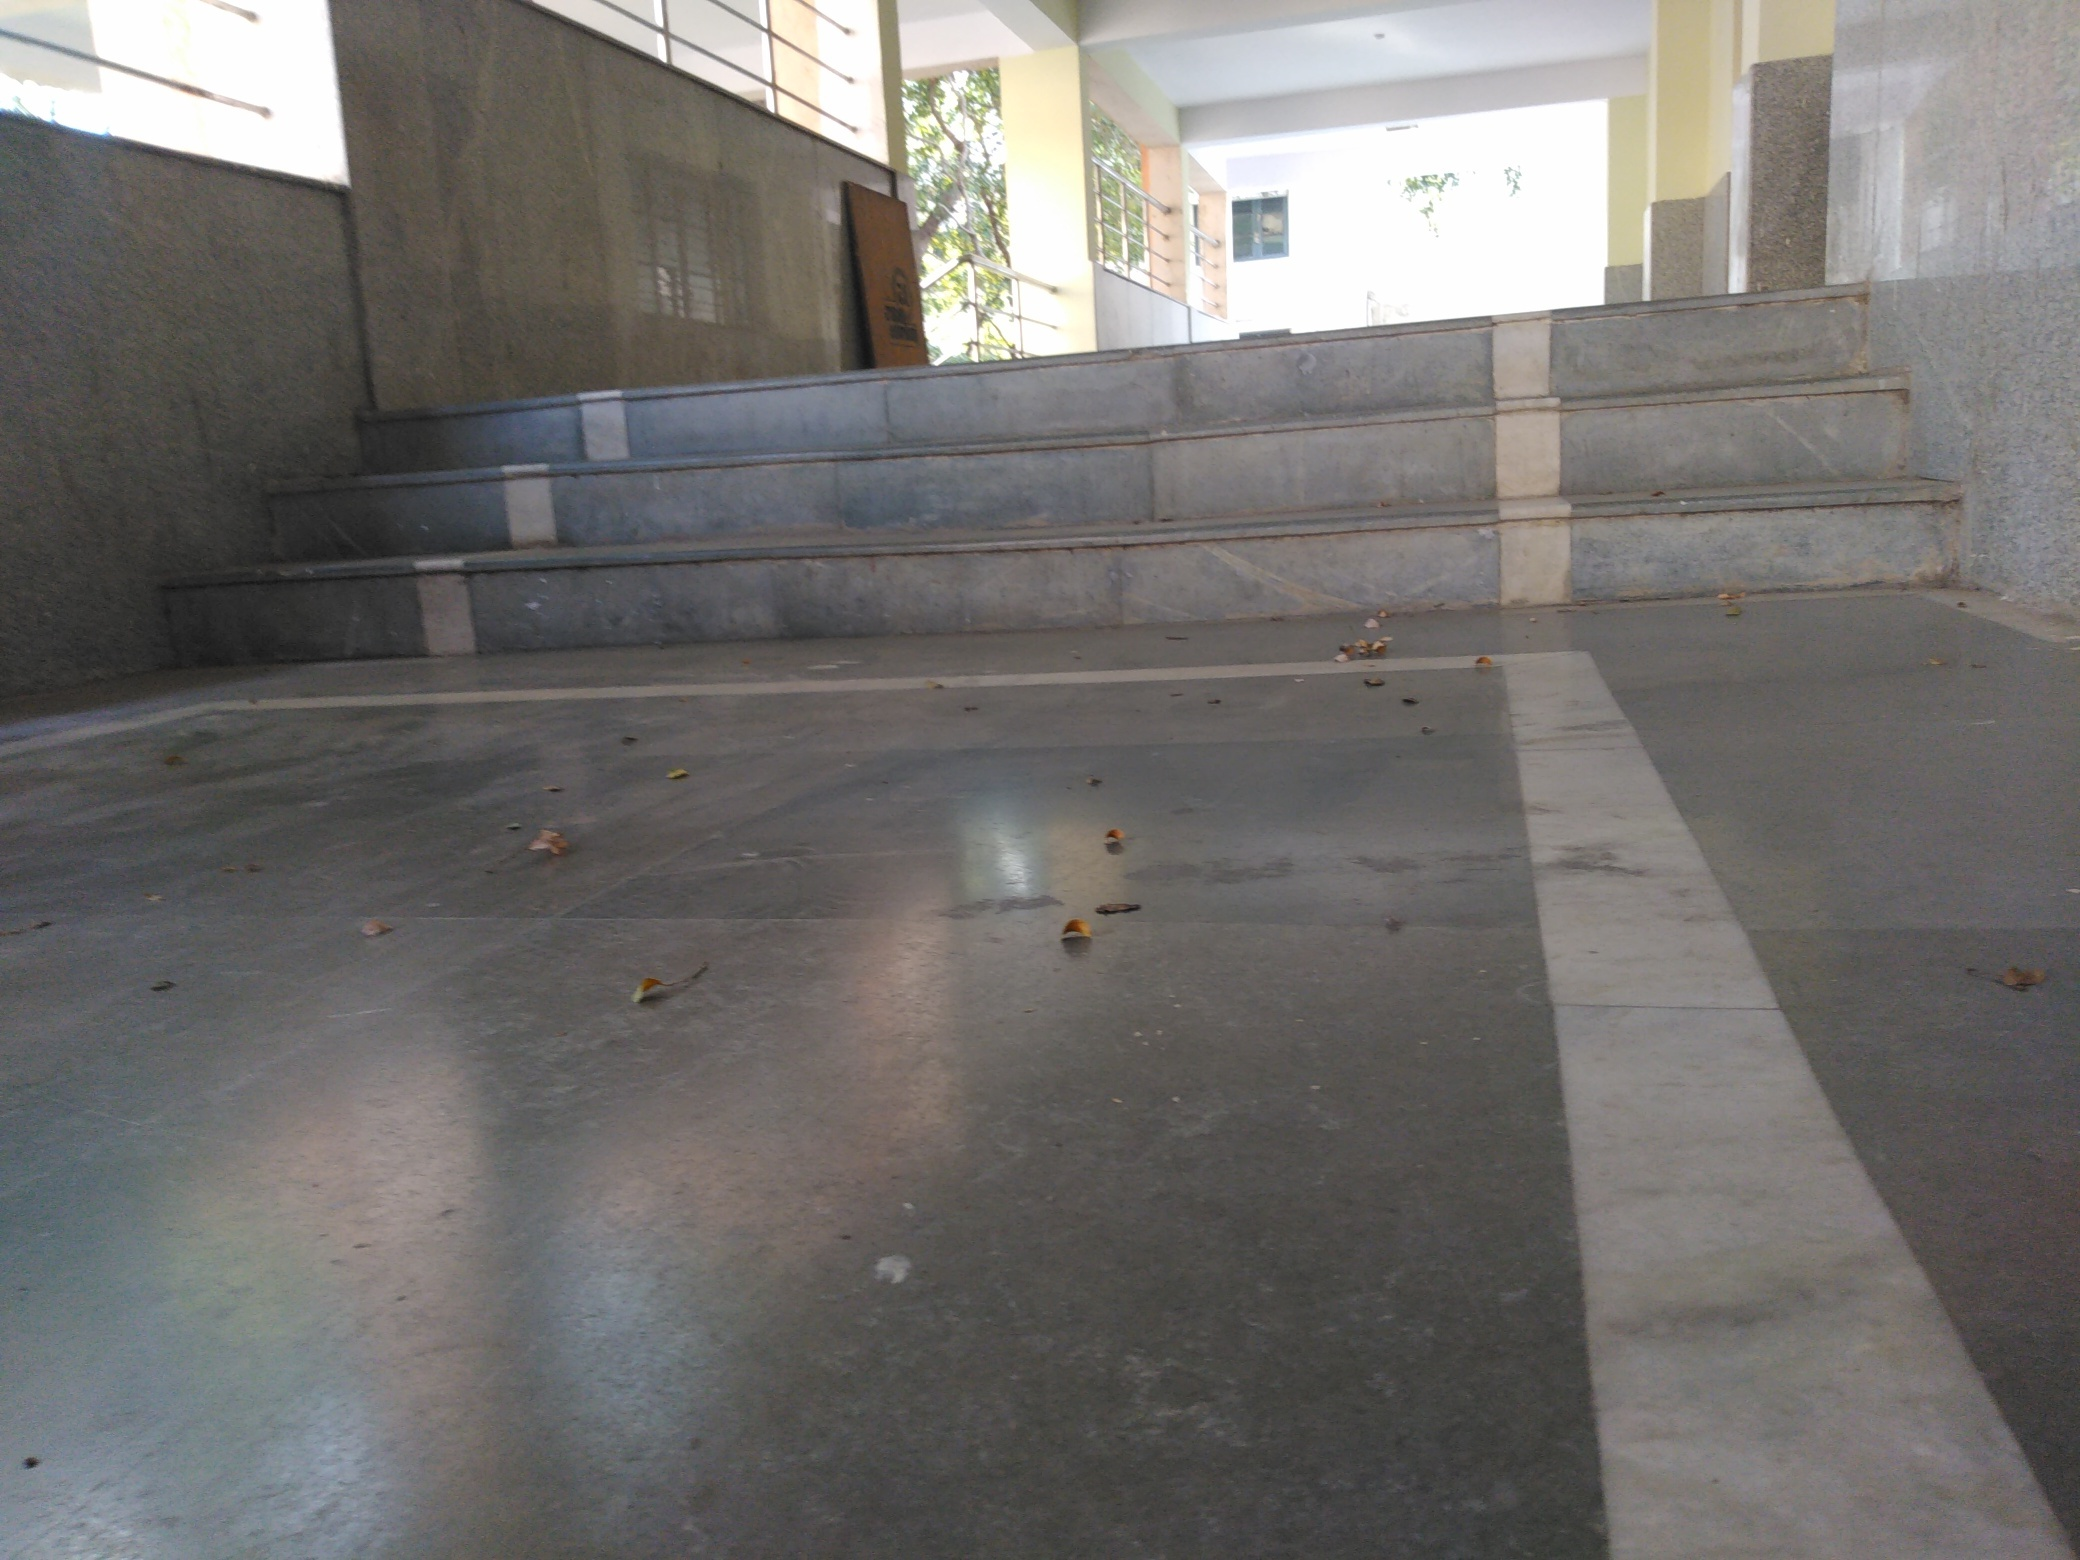stairs_up: (354, 272, 1888, 700)
